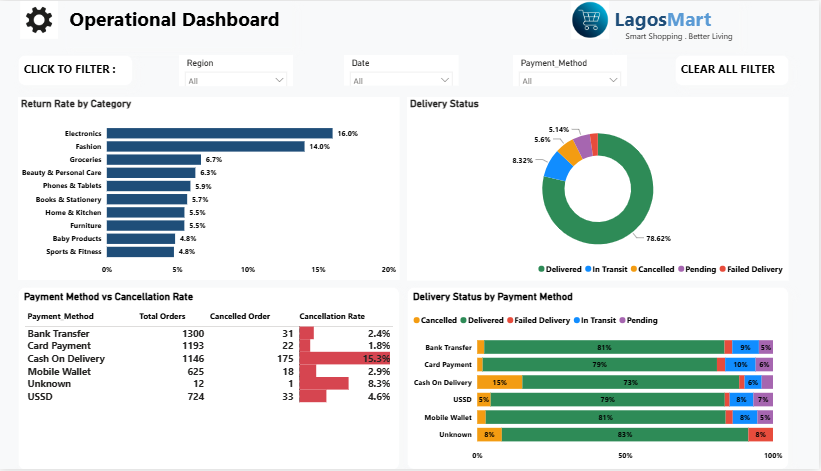

The dashboard page shown, as its layout file describes it:
{"tool":"powerbi","page":{"name":"Operational Dashboard","canvas":[1366,780],"ordinal":4},"visuals":[{"type":"image","box":[33,0,67,63],"z":0},{"type":"textbox","box":[111.5,0,375.7,78.5],"z":1000},{"type":"image","box":[952.4,0,67,63.3],"z":2000},{"type":"textbox","box":[1019.9,0,212,80],"z":3000},{"type":"textbox","box":[1126.6,89.6,190,51.4],"z":4000},{"type":"textbox","box":[32.3,89.6,190.9,51.4],"z":5000},{"type":"slicer","fields":{"Values":["Cleaned_LagosMart_Data.Region"]},"box":[299.6,89.6,190,52],"z":6000},{"type":"slicer","fields":{"Values":["Cleaned_LagosMart_Data.Date"]},"box":[575.8,89.6,190.9,51.4],"z":7000},{"type":"slicer","fields":{"Values":["Cleaned_LagosMart_Data.Payment_Method"]},"box":[856.3,89.6,190,52],"z":8000},{"type":"clusteredBarChart","title":"Return Rate by Category","fields":{"Category":["Cleaned_LagosMart_Data.Product_Category"],"Y":["Cleaned_LagosMart_Data.Return Rate"]},"box":[32.3,160.1,636,305],"z":9000},{"type":"tableEx","title":"Payment Method vs Cancellation Rate","fields":{"Values":["Cleaned_LagosMart_Data.Payment_Method","Cleaned_LagosMart_Data.Total Orders","Cleaned_LagosMart_Data.Cancelled Order","Cleaned_LagosMart_Data.Cancellation Rate"]},"box":[32.3,475.9,636,305],"z":10000},{"type":"donutChart","title":"Delivery Status","fields":{"Category":["Cleaned_LagosMart_Data.Delivery_Status"],"Y":["Cleaned_LagosMart_Data.Total Orders"]},"box":[680.1,160.1,636,305.5],"z":11000},{"type":"hundredPercentStackedBarChart","title":"Delivery Status by Payment Method","fields":{"Category":["Cleaned_LagosMart_Data.Payment_Method"],"Series":["Cleaned_LagosMart_Data.Delivery_Status"],"Y":["Cleaned_LagosMart_Data.Total Orders"]},"box":[680.1,475.9,636,304],"z":12000}]}

Visuals, with their boxes in screenshot pixels (x1, y1, x2, y2), scaled from the page's 1366x780 canvas onto the 821x471 screenshot:
image: bbox=[20, 0, 60, 38]
textbox: bbox=[67, 0, 293, 47]
image: bbox=[572, 0, 613, 38]
textbox: bbox=[613, 0, 740, 48]
textbox: bbox=[677, 54, 791, 85]
textbox: bbox=[19, 54, 134, 85]
slicer - Cleaned_LagosMart_Data.Region: bbox=[180, 54, 294, 86]
slicer - Cleaned_LagosMart_Data.Date: bbox=[346, 54, 461, 85]
slicer - Cleaned_LagosMart_Data.Payment_Method: bbox=[515, 54, 629, 86]
"Return Rate by Category" clusteredBarChart: bbox=[19, 97, 402, 281]
"Payment Method vs Cancellation Rate" tableEx: bbox=[19, 287, 402, 470]
"Delivery Status" donutChart: bbox=[409, 97, 791, 281]
"Delivery Status by Payment Method" hundredPercentStackedBarChart: bbox=[409, 287, 791, 470]
